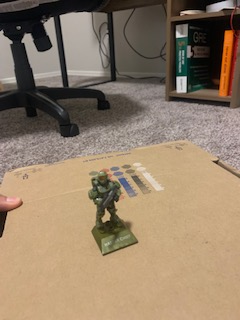soldier: (87, 169, 130, 237)
